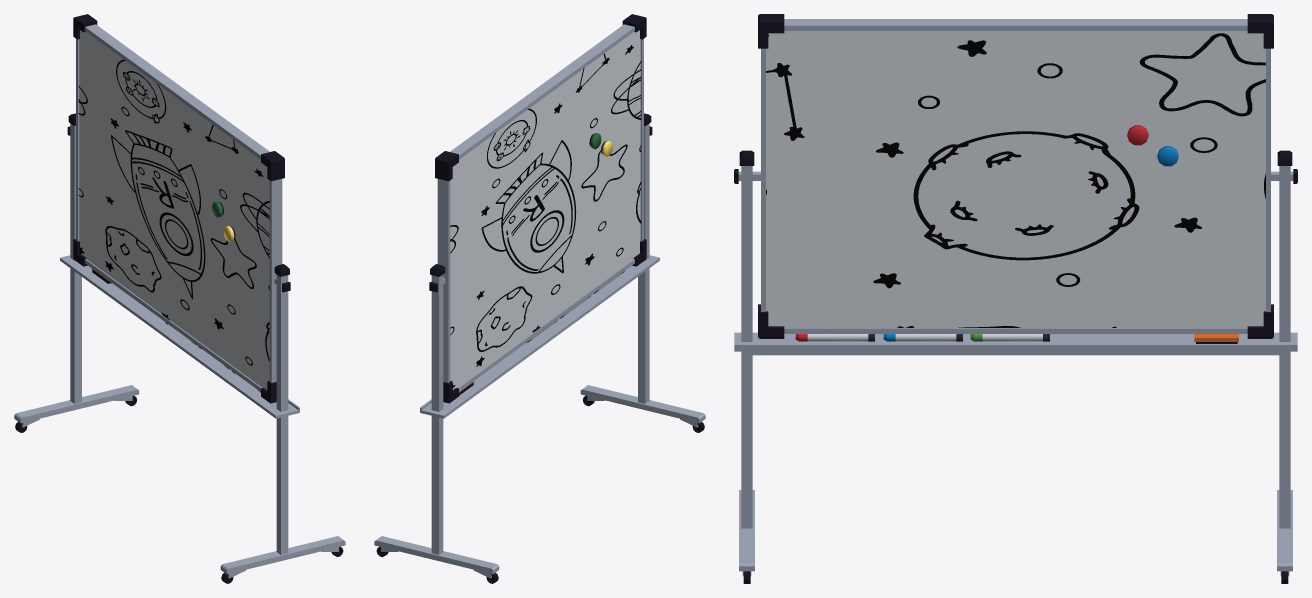
The model's file is whiteboard.glb.
3 views of the same model, side by side, from view 1: azimuth 30°, elevation 25°; view 2: azimuth 150°, elevation 25°; view 3: azimuth 270°, elevation 25° (orthographic). The views are drawn at different scales.
Parts seen in each view (by area): view 1: Cube, Cube.001; view 2: Cube, Cube.001; view 3: Cube, Cube.001.
Part boxes in pixels (bbox=[...]): Cube: bbox=[67, 14, 290, 403]; Cube.001: bbox=[14, 113, 345, 583]; Cube: bbox=[429, 14, 652, 403]; Cube.001: bbox=[374, 113, 705, 583]; Cube: bbox=[734, 14, 1297, 338]; Cube.001: bbox=[734, 150, 1297, 583].
Bounding box in the file's own units: 3.18 × 10.31 × 9.95.
3 materials, 3 textured.
